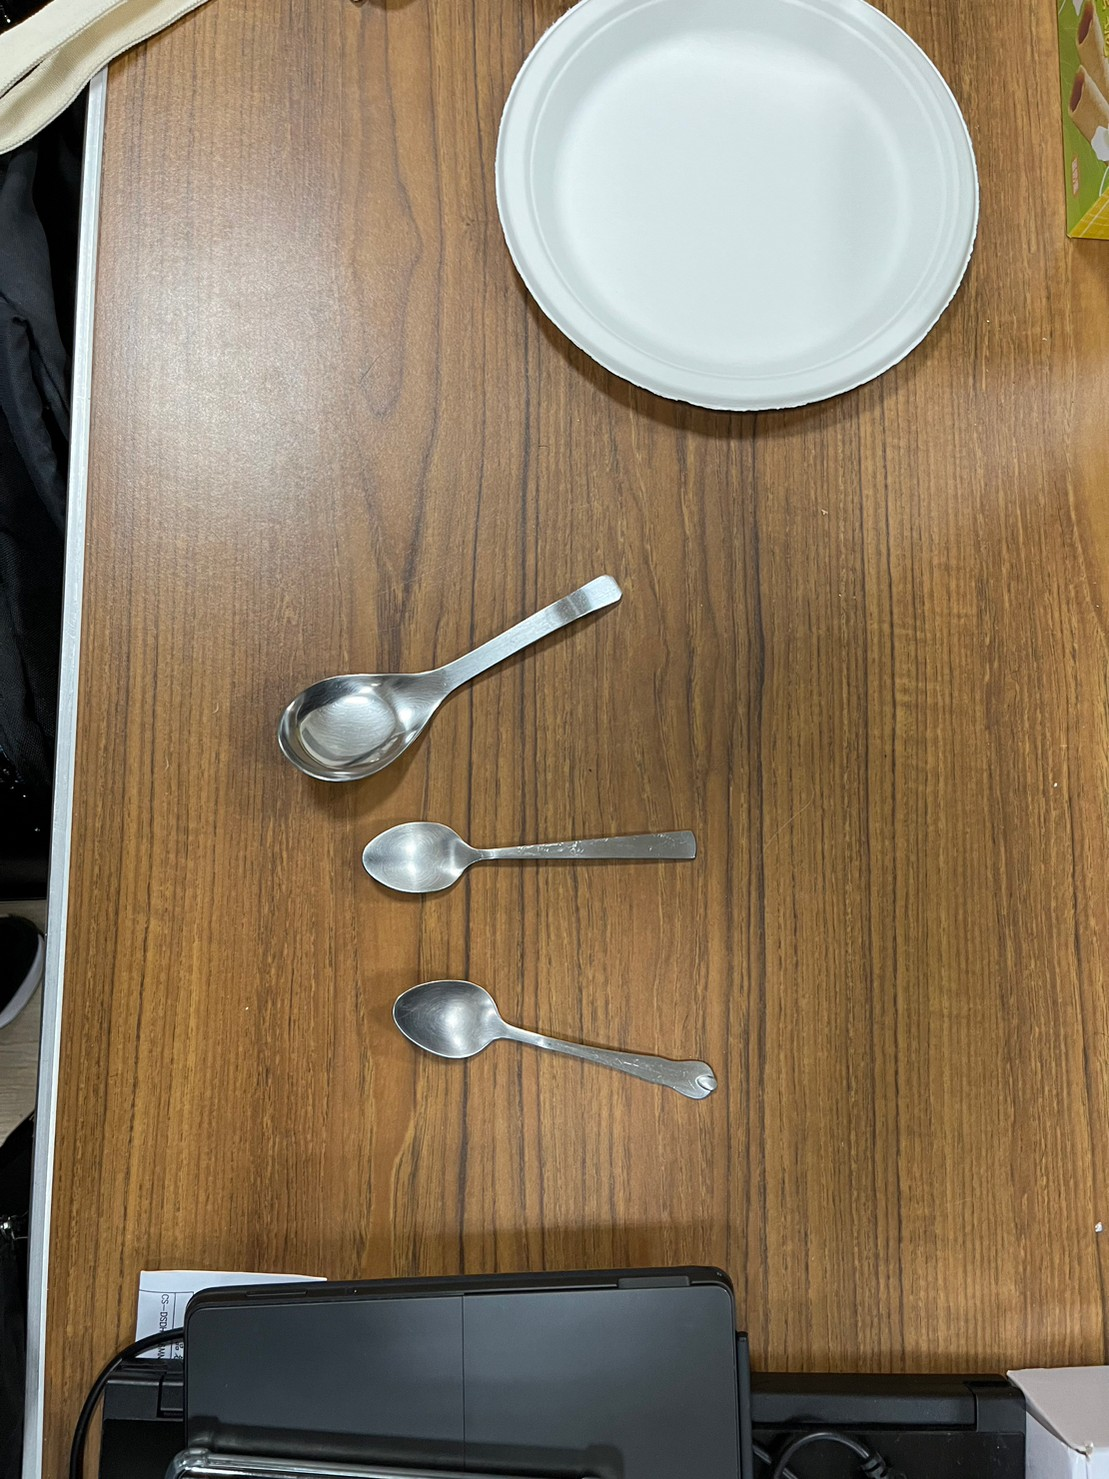spoon: (264, 560, 636, 800), (376, 953, 732, 1128), (352, 800, 716, 907)
